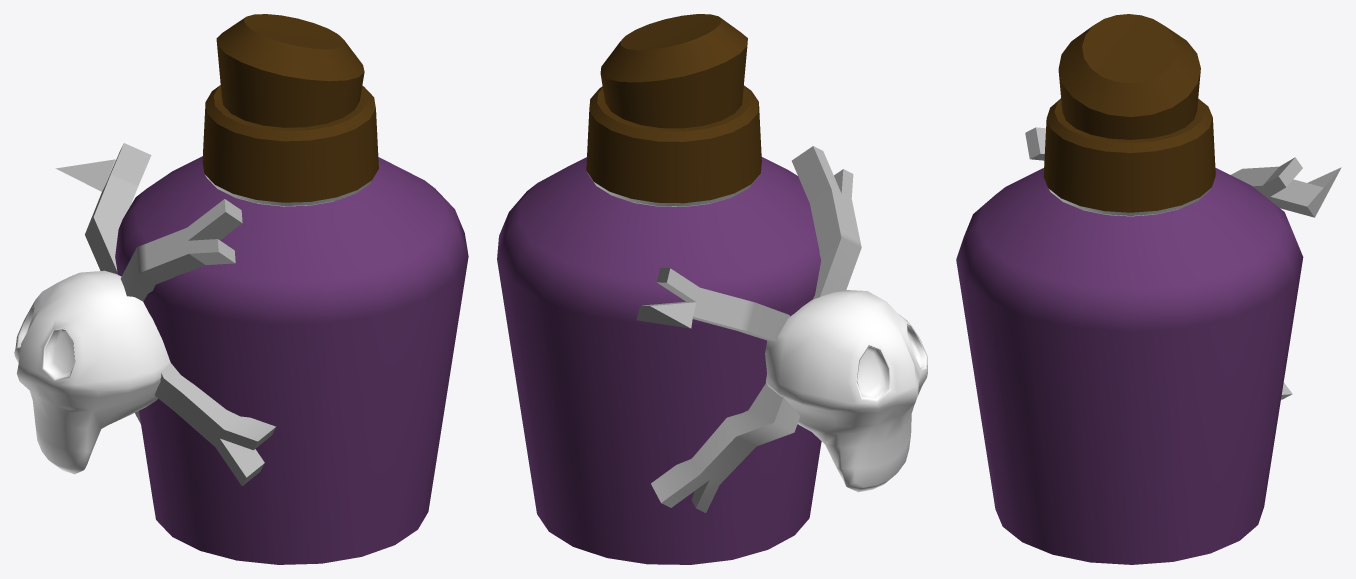
Rendered from GraveyardBottle.fbx.
3 views of the same model, side by side, from view 1: azimuth 30°, elevation 25°; view 2: azimuth 150°, elevation 25°; view 3: azimuth 270°, elevation 25° (orthographic). The views are drawn at different scales.
Parts seen in each view (by area): view 1: SKULL_BOTTLE:pCube18; view 2: SKULL_BOTTLE:pCube18; view 3: SKULL_BOTTLE:pCube18.
Part boxes in pixels (box(x1,y1,x2,y2)): SKULL_BOTTLE:pCube18: box(14, 14, 468, 564); SKULL_BOTTLE:pCube18: box(497, 14, 927, 564); SKULL_BOTTLE:pCube18: box(956, 14, 1341, 564).
Bounding box in the file's own units: 359 × 405 × 298.
